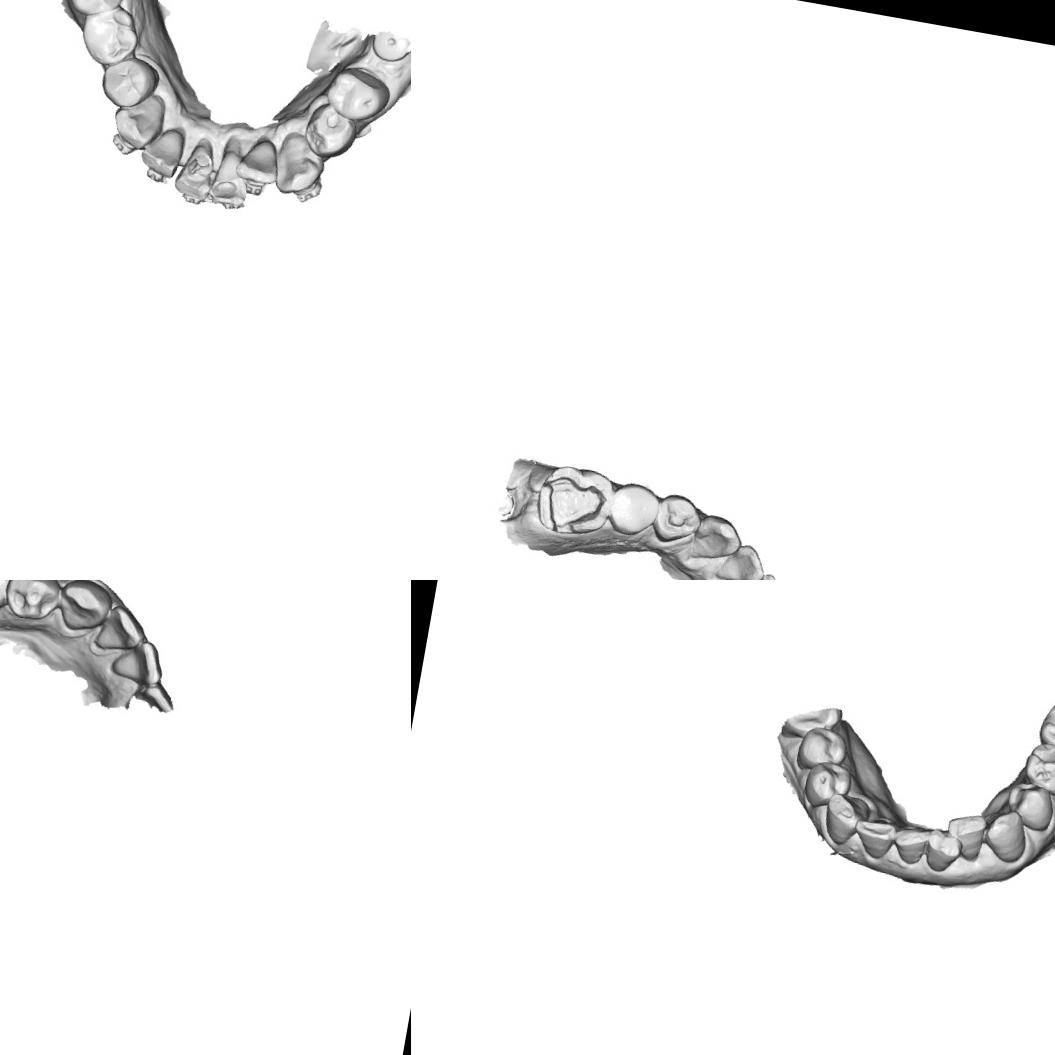canine: (268, 126, 330, 200), (107, 88, 168, 154), (684, 509, 746, 567), (54, 580, 115, 636), (979, 804, 1031, 866), (820, 790, 872, 848)
implant: (367, 29, 411, 65)
incisor: (107, 633, 168, 690), (92, 600, 150, 657), (170, 138, 221, 202), (136, 122, 188, 181), (207, 145, 254, 210), (232, 132, 284, 188), (941, 808, 989, 865), (712, 538, 768, 580), (848, 816, 898, 862), (922, 826, 965, 876), (889, 824, 928, 867), (727, 566, 781, 580)
inlay: (532, 470, 610, 541)
molar: (95, 52, 163, 114), (54, 0, 132, 22), (1033, 695, 1055, 766)
premolar: (75, 0, 144, 72), (320, 62, 395, 126), (298, 100, 361, 162), (605, 476, 662, 540), (650, 488, 705, 548), (794, 722, 852, 776), (1000, 778, 1055, 834), (800, 756, 855, 812), (0, 580, 64, 624), (1019, 739, 1055, 800)
